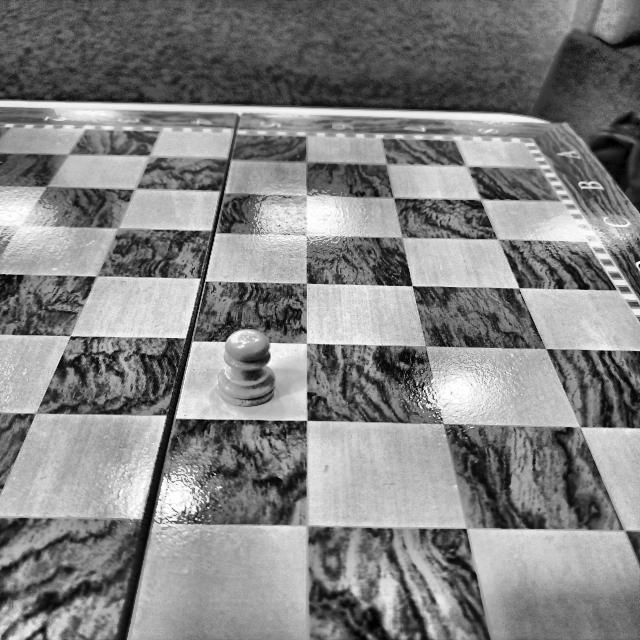white-pawn: (216, 329, 276, 407)
